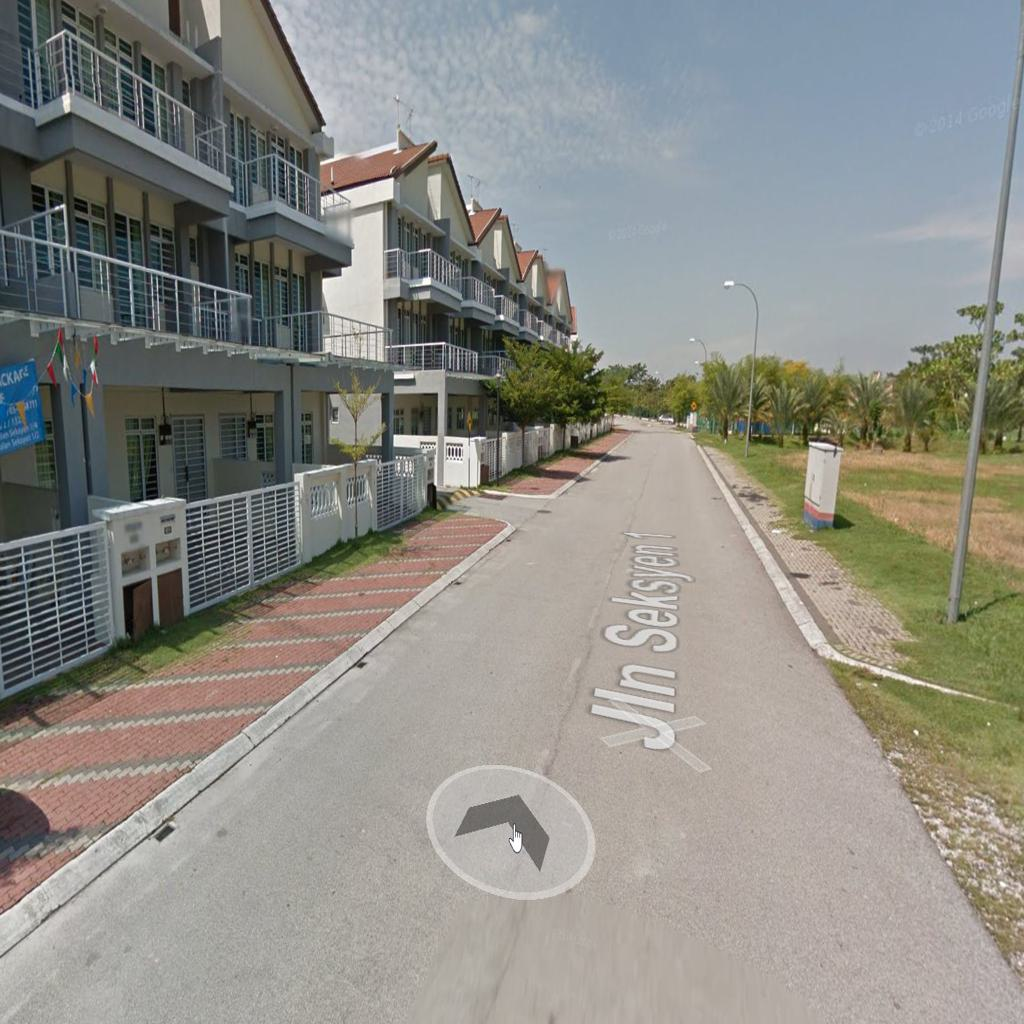Junction: (439, 461, 561, 550)
